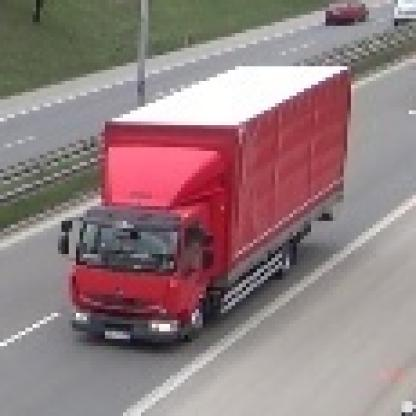truck: (59, 64, 352, 344)
